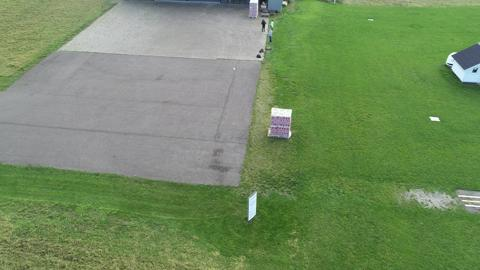RockwoolPallet: (249, 0, 259, 18)
